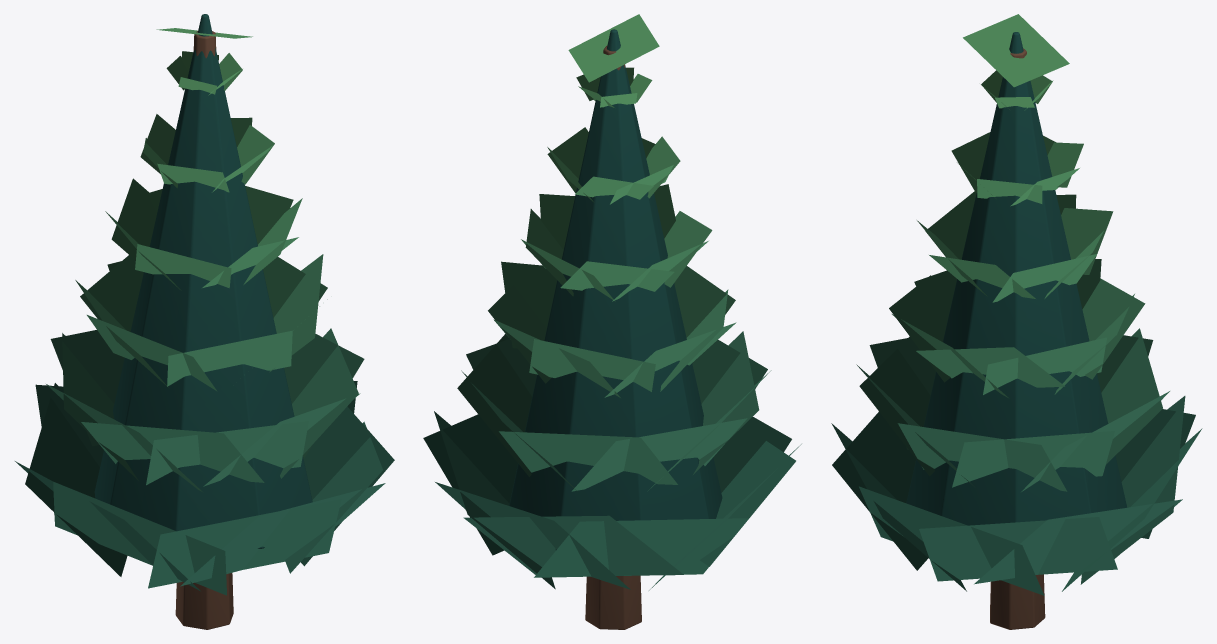
Rendered from tree_pine_b.glb.
3 renders of one model, left to right at view 1: azimuth 30°, elevation 25°; view 2: azimuth 150°, elevation 25°; view 3: azimuth 270°, elevation 25°, orthographic. The views are drawn at different scales.
Visible parts, largest first — view 1: Leaves, Tree; view 2: Leaves, Tree; view 3: Leaves, Tree.
Part boxes in pixels (left/top/right/bottom): Leaves: left=15, top=28, right=394, bottom=595; Tree: left=94, top=14, right=312, bottom=629; Leaves: left=423, top=14, right=801, bottom=590; Tree: left=509, top=29, right=722, bottom=629; Leaves: left=831, top=14, right=1202, bottom=595; Tree: left=906, top=32, right=1127, bottom=629.
Size of the model in its own units: 2.07 by 3.53 by 2.03.
